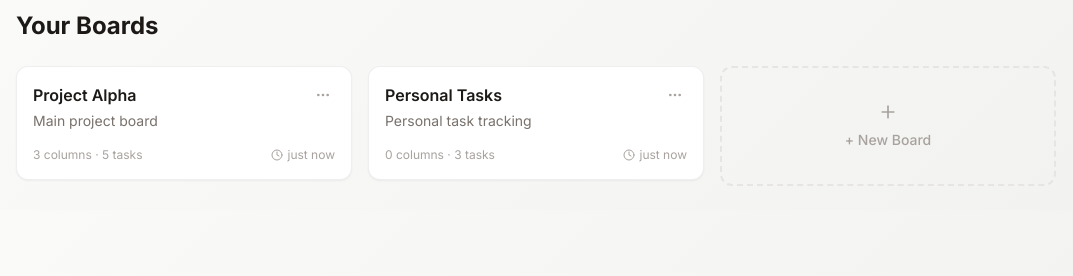
Test: BoardList › inline board creation › closes inline form when Cancel is clicked
The image size is (1073, 276).
Expected: the heading "Project Alpha" is shown, x1=33 y1=85 x2=136 y2=105
Click the button with test id "ghost-card": (888, 140) x1=720 y1=66 x2=1056 y2=186
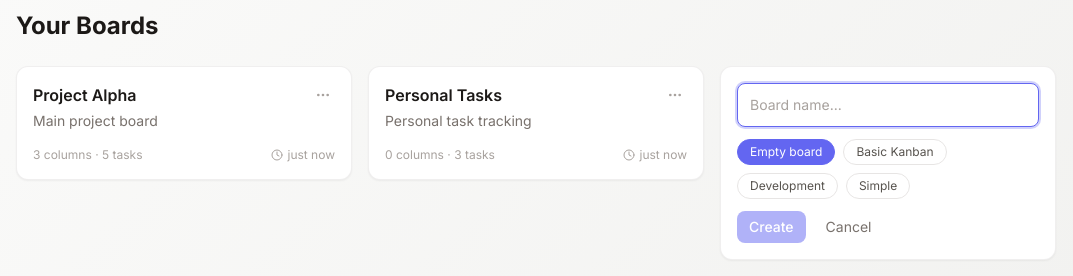
Result: the element with test id "inline-create-form" is shown at x1=737 y1=83 x2=1039 y2=243
Click the button "Cancel": (849, 227) x1=814 y1=211 x2=884 y2=243
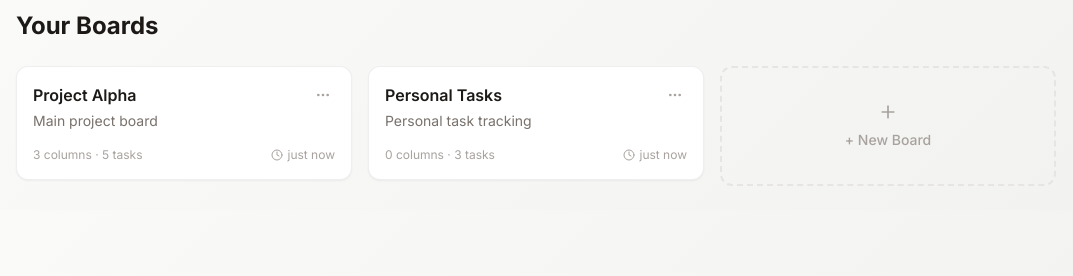
Result: the element with test id "inline-create-form" is gone
